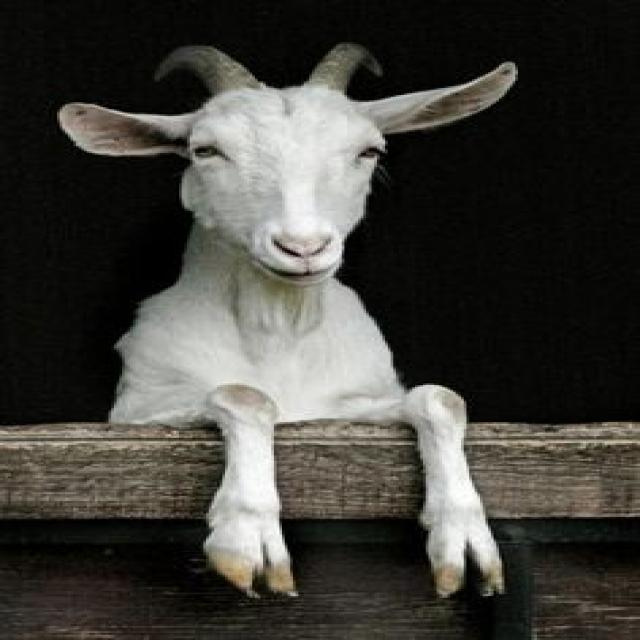Herbivorous: (57, 42, 518, 607)
